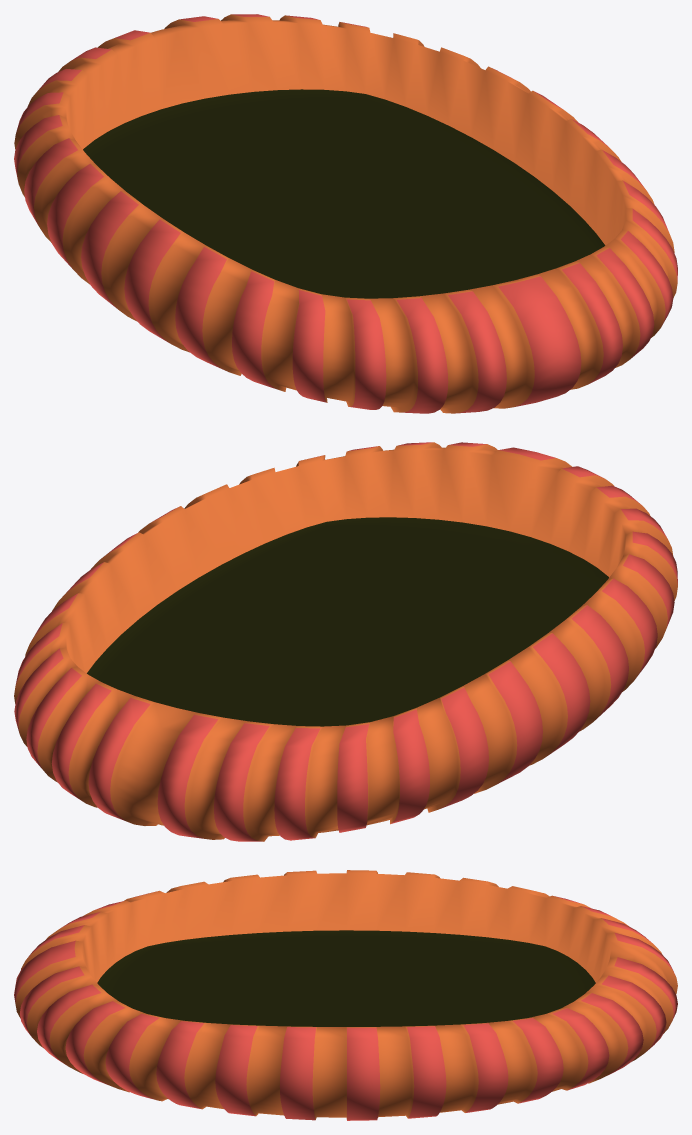
Rendered from boat.fbx.
The picture shows the model from 3 angles, top to bottom: view 1: azimuth 30°, elevation 25°; view 2: azimuth 150°, elevation 25°; view 3: azimuth 270°, elevation 25°; orthographic projection. The views are drawn at different scales.
Parts seen in each view (by area): view 1: Cube; view 2: Cube; view 3: Cube.
Part boxes in pixels (bbox=[...]): Cube: bbox=[14, 14, 677, 413]; Cube: bbox=[14, 442, 677, 841]; Cube: bbox=[14, 870, 677, 1120].
Size of the model in its own units: 172 by 53.51 by 259.
